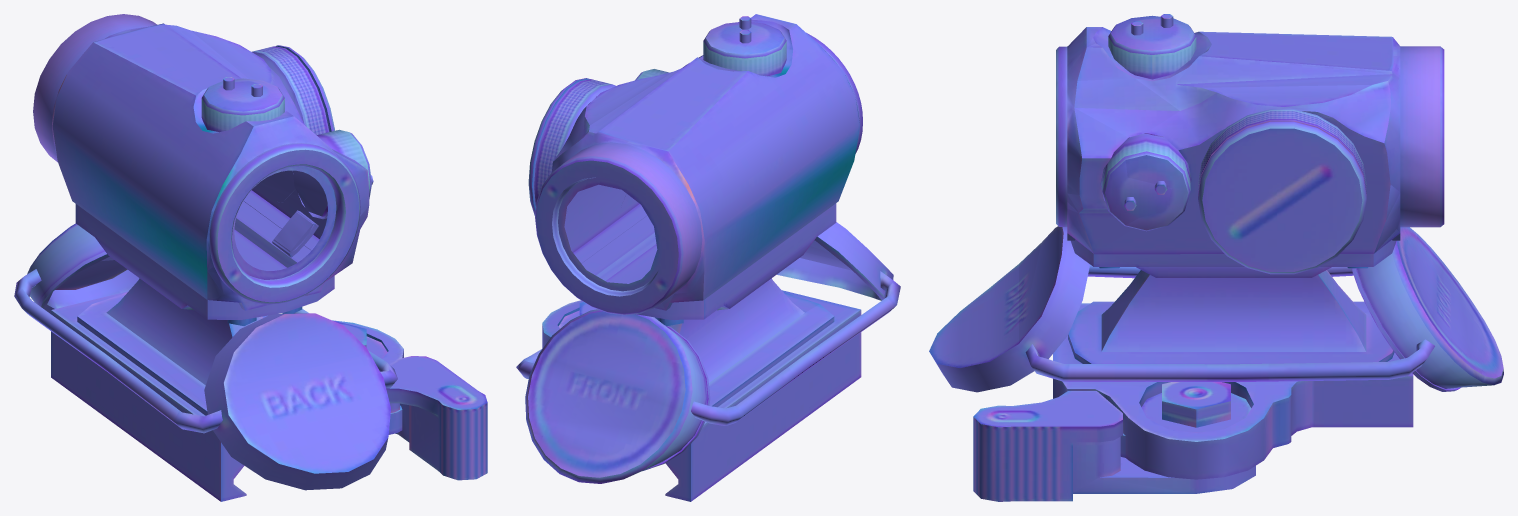
File: Red-Dot-Sight-NATO.glb
The picture shows the model from 3 angles, left to right: view 1: azimuth 30°, elevation 25°; view 2: azimuth 150°, elevation 25°; view 3: azimuth 270°, elevation 25°; orthographic projection. The views are drawn at different scales.
Parts seen in each view (by area): view 1: Red Dot Sight NATO; view 2: Red Dot Sight NATO; view 3: Red Dot Sight NATO.
Boxes of the visible parts, box(x1,y1,x2,y2) form: Red Dot Sight NATO: box(14, 14, 487, 501); Red Dot Sight NATO: box(516, 14, 900, 501); Red Dot Sight NATO: box(929, 14, 1503, 501).
Size of the model in its own units: 0.0528 by 0.0663 by 0.0877.
3 materials, 1 textured.
